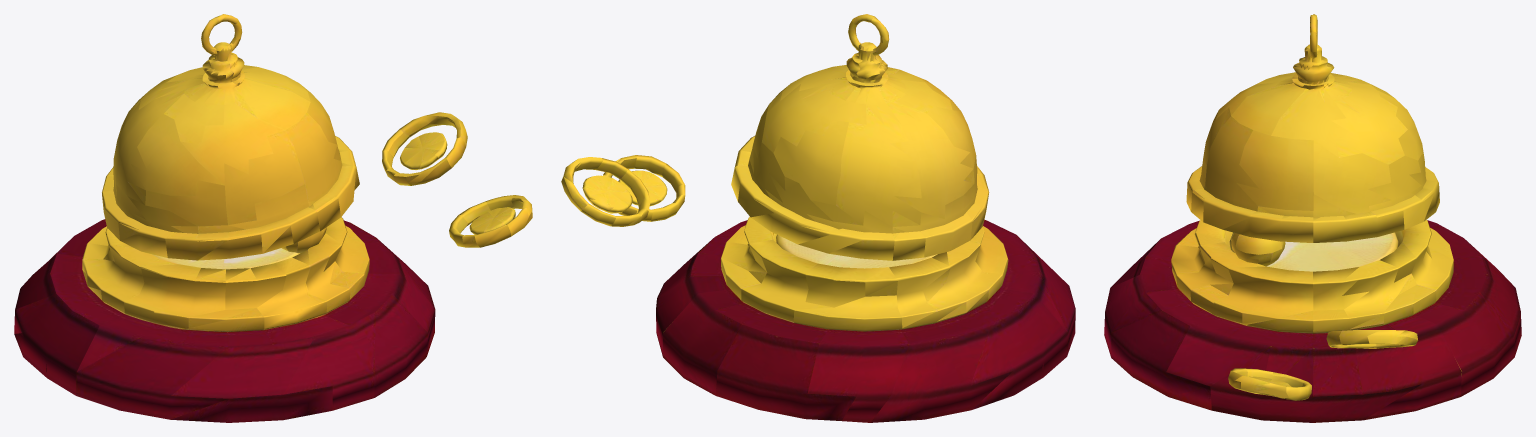
File: jackpot_bell.glb
The picture shows the model from 3 angles, left to right: view 1: azimuth 30°, elevation 25°; view 2: azimuth 150°, elevation 25°; view 3: azimuth 270°, elevation 25°; orthographic projection.
Size of the model in its own units: 1 by 0.6738 by 0.8027.
1 material, 1 textured.
